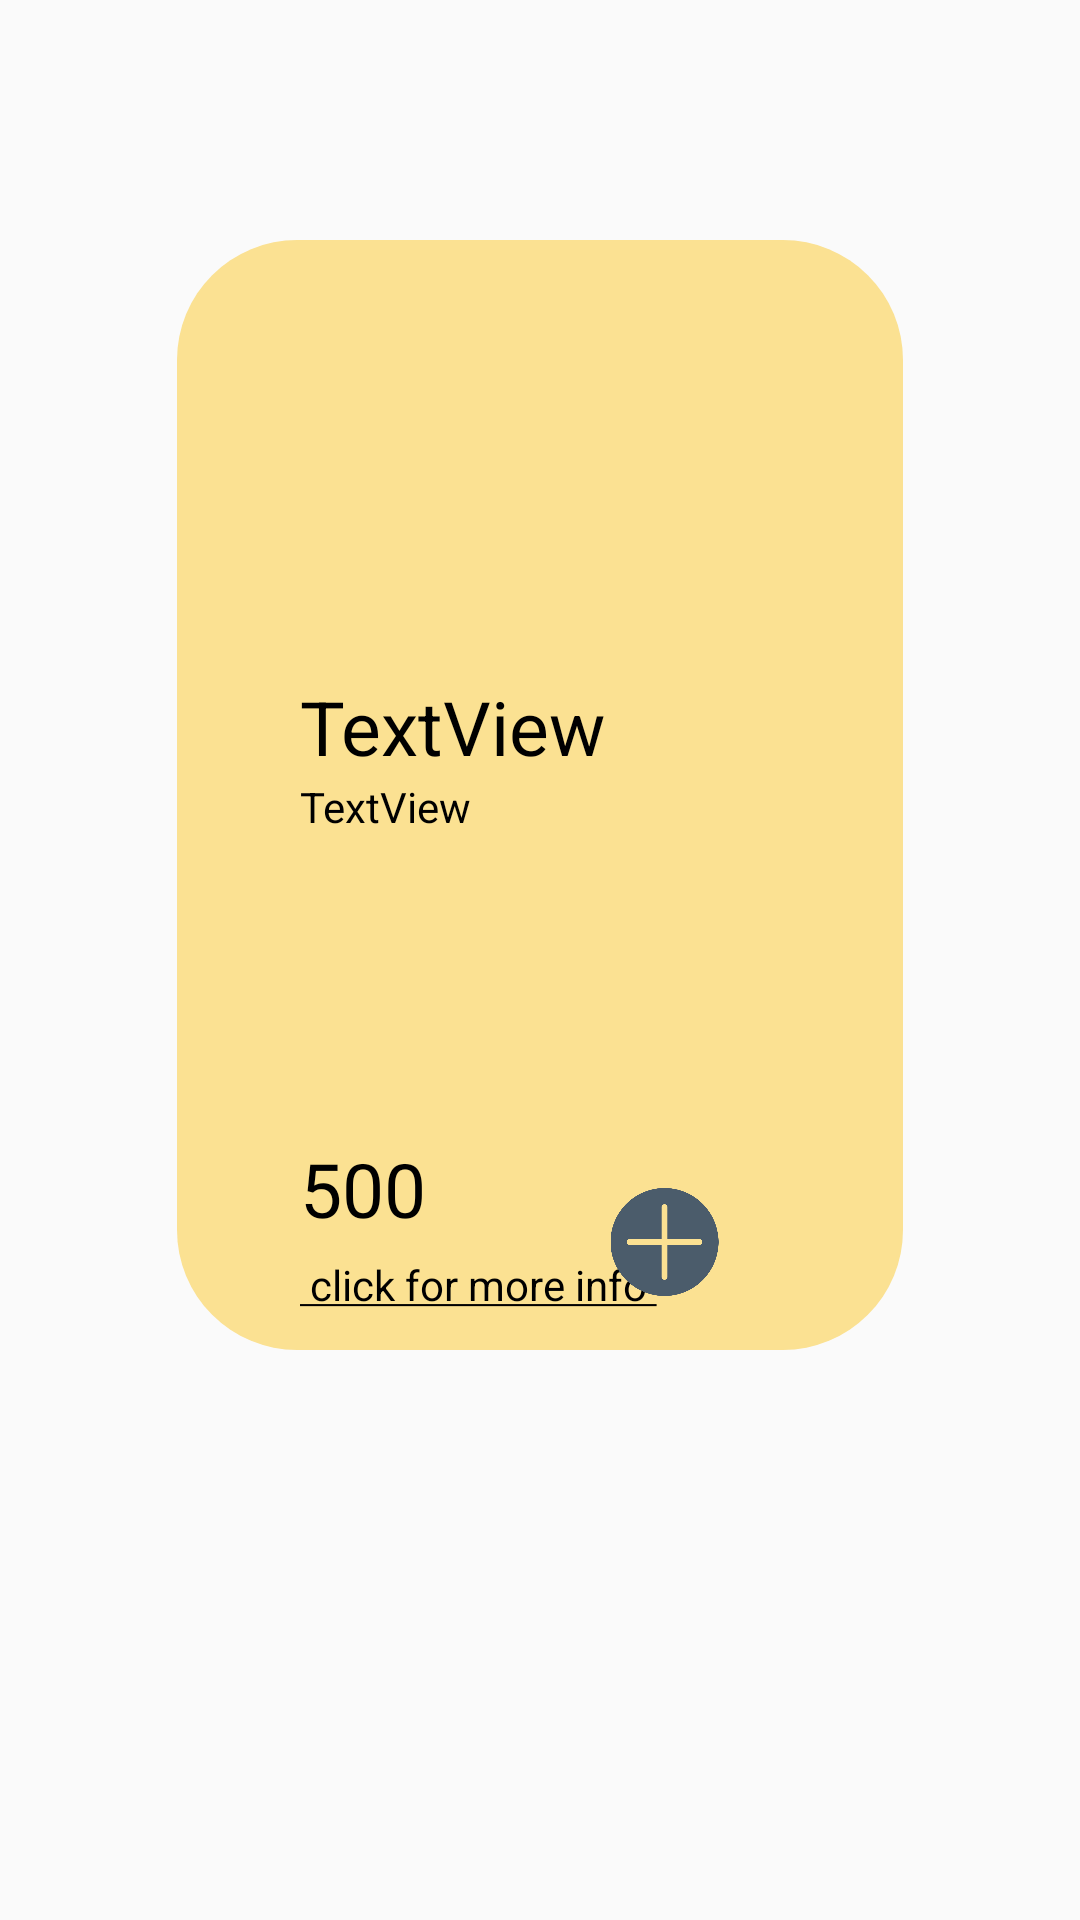

Icons on this 1080px×1920px Android screen, each with its box as BBox(x1, y1, x2, y2):
plus: BBox(609, 1188, 719, 1296)
